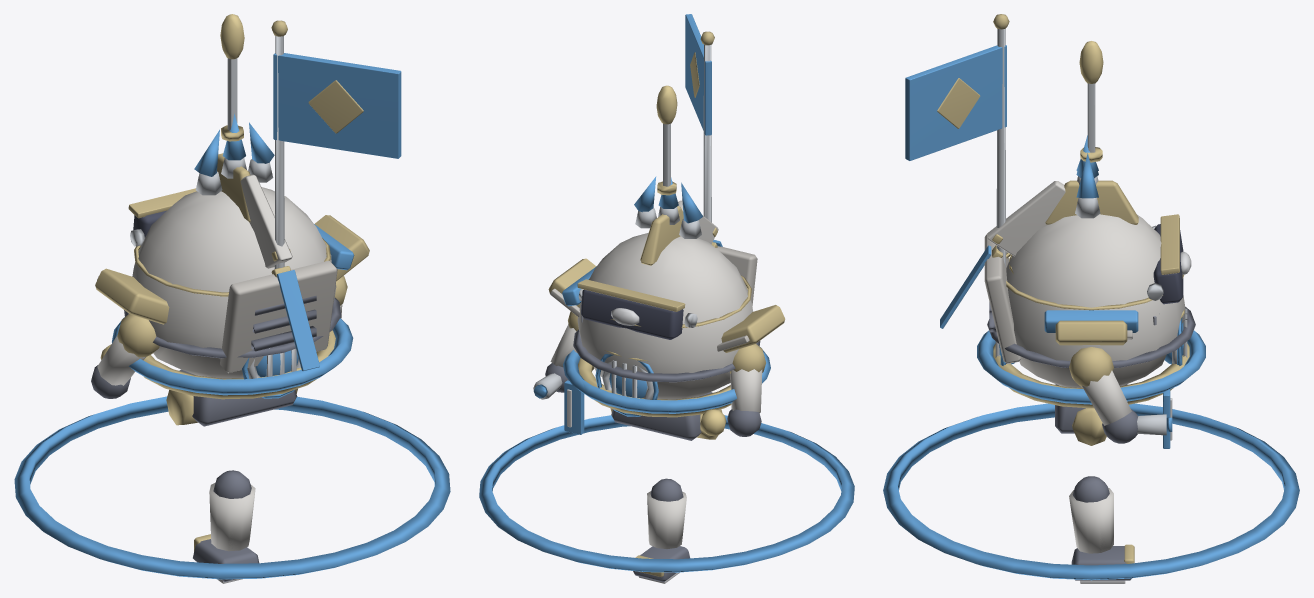
File: picket_c.glb
3 renders of one model, left to right at view 1: azimuth 30°, elevation 25°; view 2: azimuth 150°, elevation 25°; view 3: azimuth 270°, elevation 25°, orthographic. The views are drawn at different scales.
Parts seen in each view (by area): view 1: body, sash_own, pennant, tier3, leg_r, tier2, sash, elite, leg_l; view 2: body, sash_own, pennant, tier2, tier3, sash, leg_r, elite; view 3: body, sash_own, pennant, tier3, leg_r, sash, tier2, elite, leg_l.
Boxes of the visible parts, x1,y1,x2,y2 form: body: [91, 174, 347, 426]; sash_own: [14, 317, 450, 579]; pennant: [271, 20, 401, 333]; tier3: [103, 113, 369, 398]; leg_r: [193, 470, 258, 583]; tier2: [95, 153, 369, 398]; sash: [112, 318, 350, 395]; elite: [220, 14, 244, 141]; leg_l: [193, 474, 259, 580]; body: [533, 200, 765, 440]; sash_own: [479, 350, 854, 572]; pennant: [562, 14, 714, 306]; tier2: [549, 206, 785, 416]; tier3: [548, 176, 778, 416]; sash: [564, 347, 770, 434]; leg_r: [633, 478, 689, 583]; elite: [604, 85, 677, 361]; body: [984, 181, 1195, 445]; sash_own: [883, 330, 1299, 580]; pennant: [905, 14, 1138, 332]; tier3: [940, 135, 1182, 365]; leg_r: [1069, 476, 1134, 583]; sash: [977, 330, 1205, 448]; tier2: [992, 181, 1182, 360]; elite: [1009, 41, 1184, 319]; leg_l: [1069, 476, 1110, 562].
Size of the model in its own units: 1.11 by 1.65 by 1.11.
